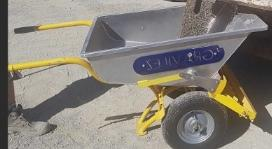BROUETTE: (0, 2, 270, 149)
